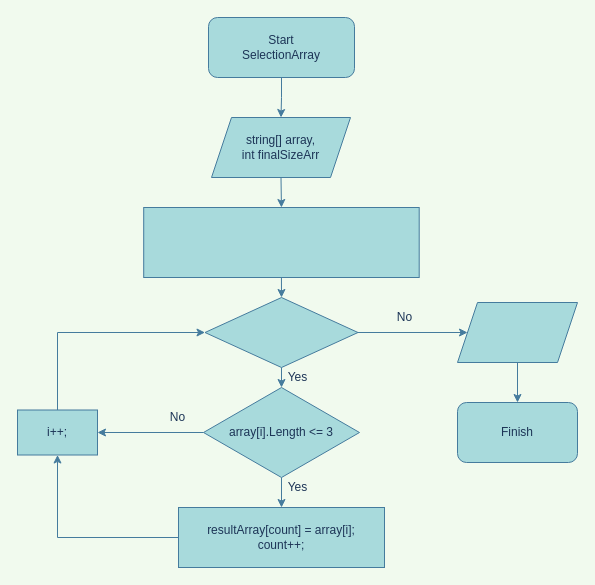
Some shapes in this 595 by 585 pixel diagram are drawn without their labels. The shapes that lost their labels are listed below. From the top down, each one's centre as x and y in pixels, then its label:
At (281,242): "string[] resultArray = new string[finalSizeArr]; int count = 0; int i = 0;".
At (281,332): "i < array.Length".
At (517,332): "resultArray".
